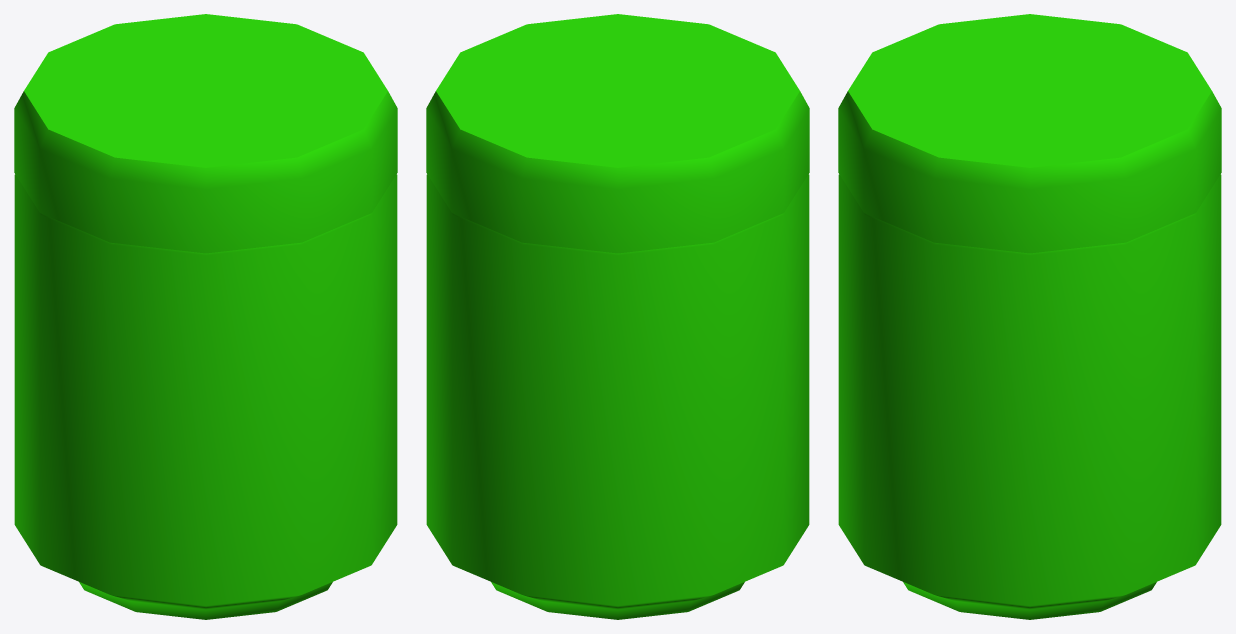
The model's file is Pot_06_Lod0.fbx.
The picture shows the model from 3 angles, left to right: view 1: azimuth 30°, elevation 25°; view 2: azimuth 150°, elevation 25°; view 3: azimuth 270°, elevation 25°; orthographic projection.
Parts seen in each view (by area): view 1: Pot_06_Lod0; view 2: Pot_06_Lod0; view 3: Pot_06_Lod0.
Part boxes in pixels (<box>): Pot_06_Lod0: <box>14,14,397,619</box>; Pot_06_Lod0: <box>426,14,809,619</box>; Pot_06_Lod0: <box>838,14,1221,619</box>.
Size of the model in its own units: 20.23 by 27.32 by 20.23.
